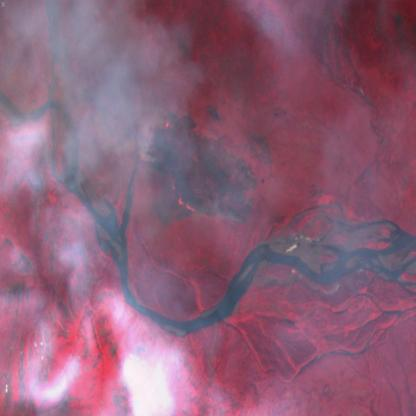fire: (143, 107, 259, 228)
